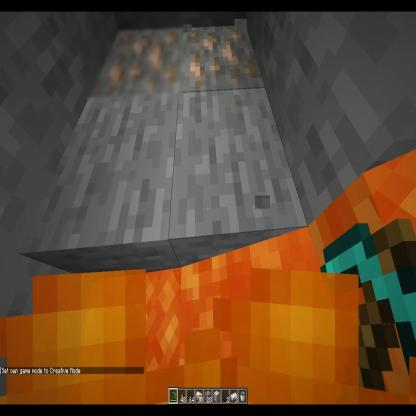iron ore: (87, 19, 183, 101), (179, 18, 265, 94)
